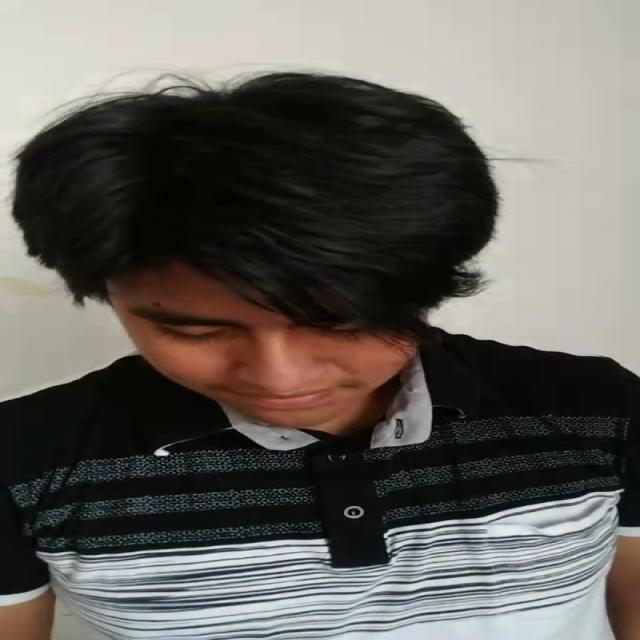9_cabeza_baja: (11, 70, 500, 423)
